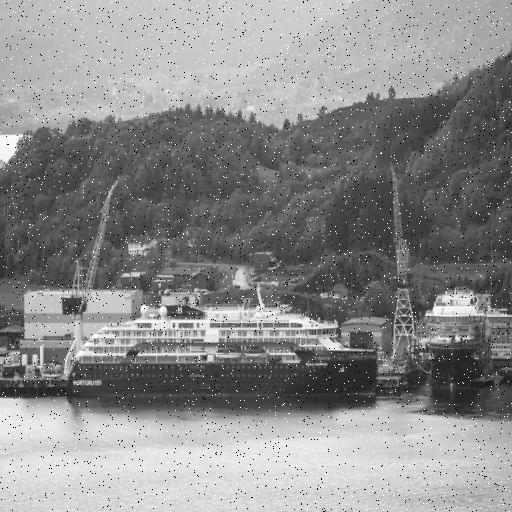cruises: (63, 290, 381, 409)
